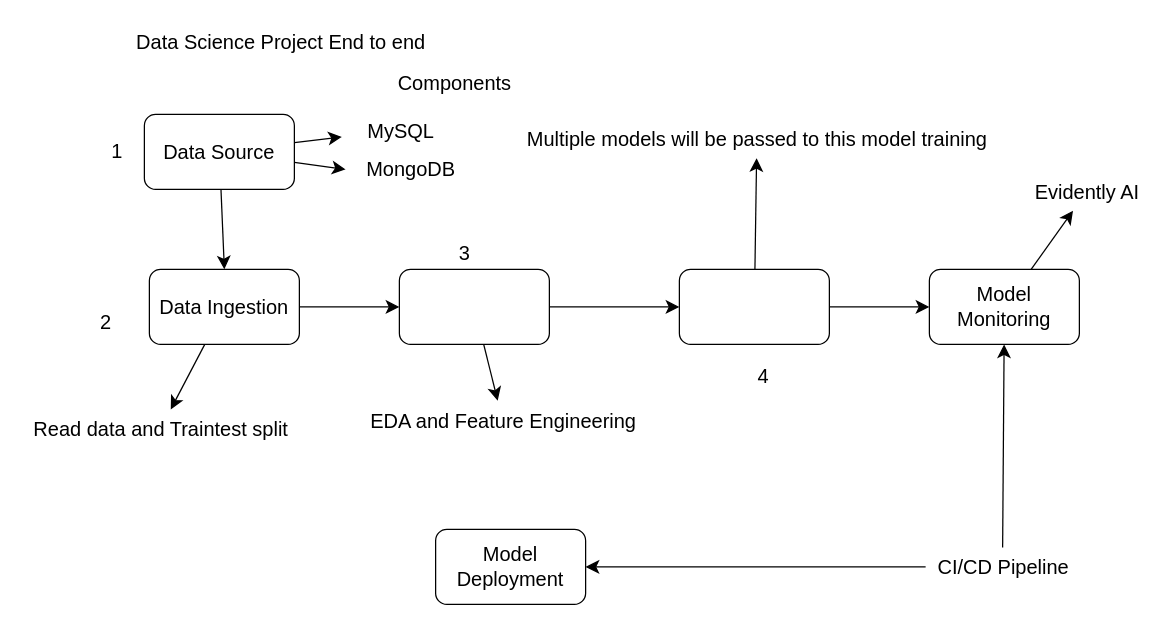
Image size: 1171x626. Some labels were removed from this diagram. The shapes that lost their labels are listed below. From the top down, each one's box as (x1, y1, x2, y2) in pixels, then its label:
(398, 268, 549, 344): Data Transformation
(678, 268, 829, 344): Model Training
